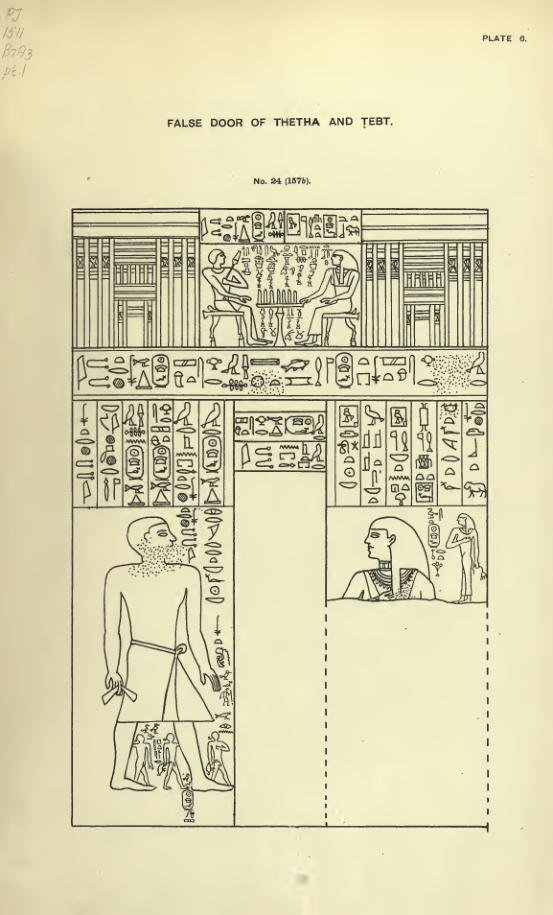circle: (201, 435, 222, 476), (334, 351, 356, 390), (283, 413, 316, 437), (150, 353, 171, 389), (125, 445, 145, 481), (152, 445, 172, 481), (251, 211, 266, 243), (427, 523, 442, 548), (181, 788, 195, 813)
